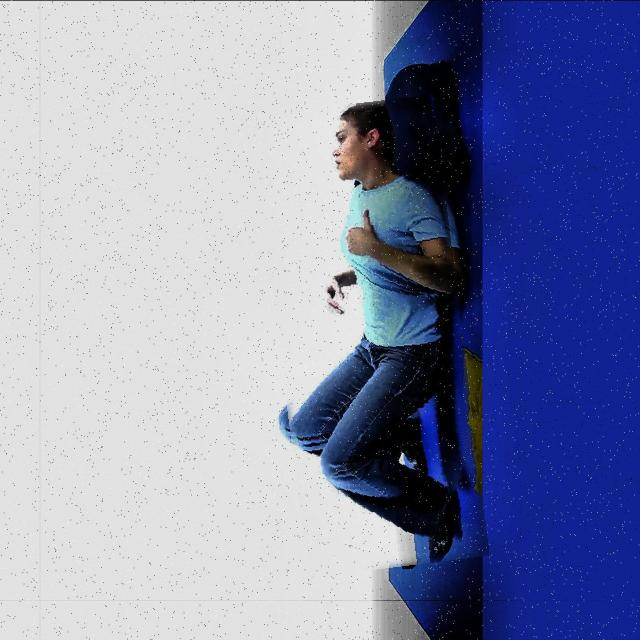Supine: (289, 102, 460, 563)
